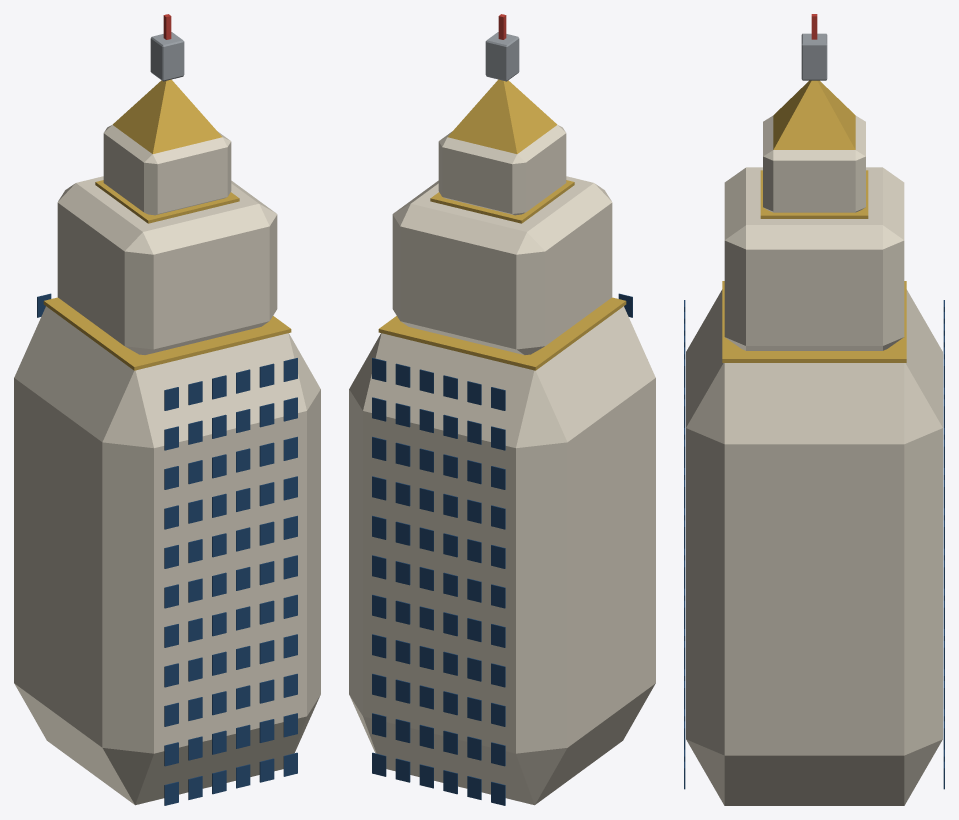
The model's file is tower_deco_h60.glb.
3 renders of one model, left to right at view 1: azimuth 30°, elevation 25°; view 2: azimuth 150°, elevation 25°; view 3: azimuth 270°, elevation 25°, orthographic.
Visible parts, largest first — view 1: t1, t2, t3, pyr, decoband, mast, decoband.001; view 2: t1, t2, t3, pyr, decoband, mast, decoband.001; view 3: t1, t2, t3, pyr, decoband, mast, decoband.001.
Boxes of the visible parts, <box> form: t1: <box>14,306,320,805</box>; t2: <box>57,176,277,354</box>; t3: <box>103,125,231,215</box>; pyr: <box>112,79,222,153</box>; decoband: <box>43,297,291,370</box>; mast: <box>150,32,184,81</box>; decoband.001: <box>95,180,239,223</box>; t1: <box>349,306,655,805</box>; t2: <box>392,176,612,354</box>; t3: <box>438,125,566,215</box>; pyr: <box>447,79,557,153</box>; decoband: <box>378,297,626,370</box>; mast: <box>485,32,519,81</box>; decoband.001: <box>430,180,574,223</box>; t1: <box>686,289,942,805</box>; t2: <box>724,167,904,350</box>; t3: <box>763,116,865,212</box>; pyr: <box>773,80,855,149</box>; decoband: <box>722,281,906,362</box>; mast: <box>801,33,827,80</box>; decoband.001: <box>760,170,868,218</box>.
Size of the model in its own units: 22 by 71.1 by 22.34.
